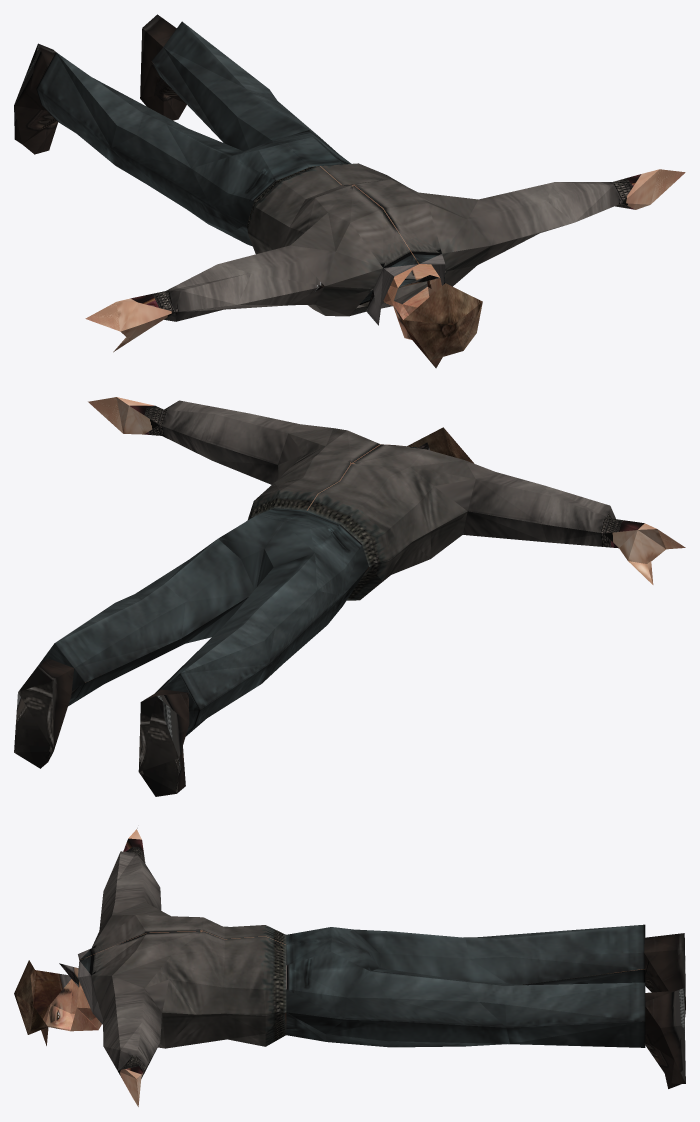
Rendered from thug_mustafalow_wtf.obj.
3 renders of one model, top to bottom at view 1: azimuth 30°, elevation 25°; view 2: azimuth 150°, elevation 25°; view 3: azimuth 270°, elevation 25°, orthographic. The views are drawn at different scales.
Parts seen in each view (by area): view 1: group1; view 2: group1; view 3: group1.
Part boxes in pixels (box(x1,y1,x2,y2)): group1: box(14, 14, 685, 368); group1: box(14, 397, 685, 796); group1: box(14, 828, 685, 1106).
Size of the model in its own units: 642 by 137 by 660.
